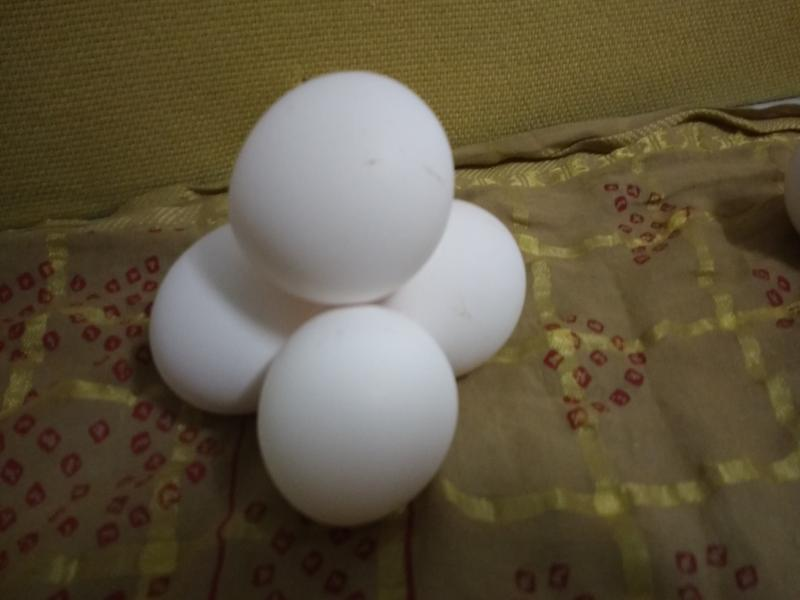egg: (224, 71, 452, 304)
